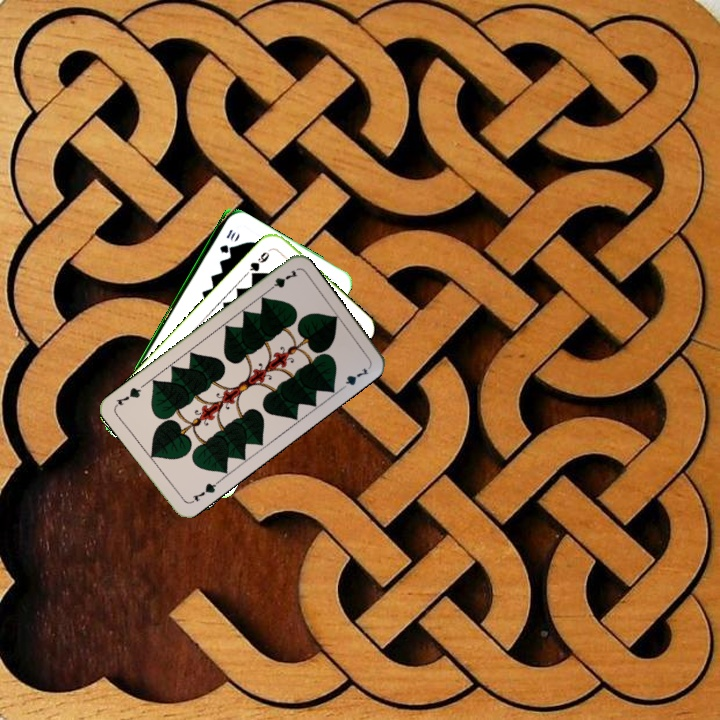G10: (215, 225, 238, 255)
G7: (263, 265, 300, 295), (186, 477, 221, 506)
G9: (246, 244, 275, 280)
